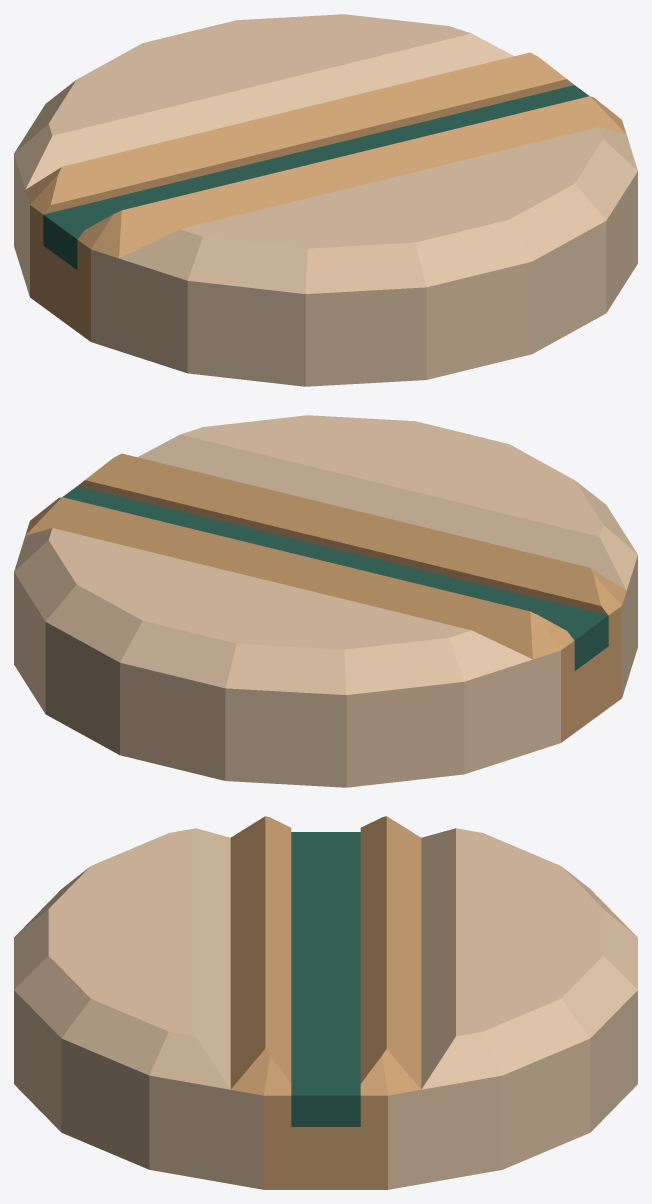
3 views of the same model, one above another, from view 1: azimuth 30°, elevation 25°; view 2: azimuth 150°, elevation 25°; view 3: azimuth 270°, elevation 25° (orthographic).
Parts seen in each view (by area): view 1: mergedBlocks(Clone); view 2: mergedBlocks(Clone); view 3: mergedBlocks(Clone).
Part boxes in pixels (box(x1,y1,x2,y2)): mergedBlocks(Clone): box(14, 14, 637, 386); mergedBlocks(Clone): box(14, 415, 637, 787); mergedBlocks(Clone): box(14, 816, 637, 1189).
Size of the model in its own units: 2.7 by 0.6 by 2.7.
